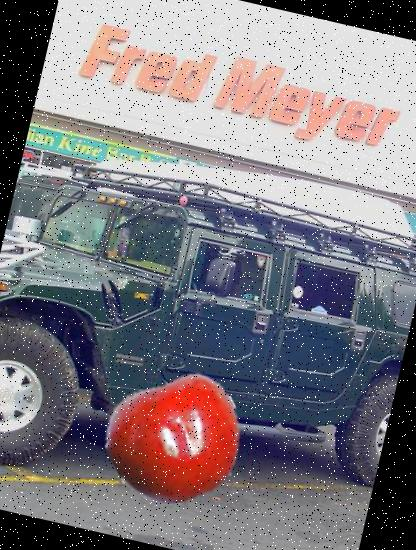Cherry: (96, 358, 258, 520)
